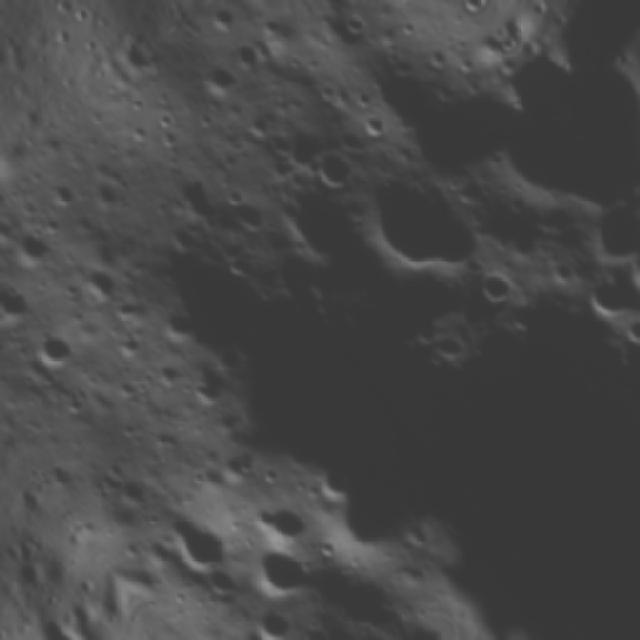crater: (341, 143, 501, 305), (152, 500, 237, 585), (0, 230, 43, 365), (241, 537, 316, 609), (73, 254, 129, 312), (255, 493, 310, 549), (5, 221, 60, 276), (189, 54, 243, 109), (149, 296, 203, 350), (468, 260, 522, 314), (26, 325, 80, 378), (580, 277, 632, 329), (302, 142, 353, 193), (142, 347, 188, 395), (218, 441, 264, 488), (42, 169, 87, 214), (430, 328, 475, 369), (105, 325, 148, 367), (182, 370, 225, 412), (162, 220, 204, 262), (502, 218, 544, 260), (228, 196, 269, 238), (204, 0, 247, 40), (252, 603, 297, 640), (198, 562, 238, 602), (111, 471, 151, 511), (228, 38, 267, 77), (404, 314, 444, 352), (398, 516, 436, 555), (620, 238, 640, 311), (240, 108, 277, 144), (0, 166, 17, 242), (338, 5, 373, 41), (357, 109, 391, 145), (46, 460, 80, 495), (218, 250, 252, 284), (89, 176, 122, 210), (472, 28, 505, 60), (615, 313, 640, 355), (293, 617, 338, 640), (117, 534, 149, 566), (250, 280, 282, 311), (347, 83, 378, 114), (60, 388, 91, 419), (548, 258, 578, 288), (121, 90, 152, 118), (121, 119, 150, 148), (164, 583, 193, 612), (313, 77, 341, 105), (393, 15, 421, 42), (423, 45, 451, 72), (191, 108, 218, 135), (151, 105, 177, 132), (454, 54, 478, 77), (282, 53, 306, 75), (346, 629, 394, 640), (356, 0, 406, 9), (424, 0, 464, 5)
